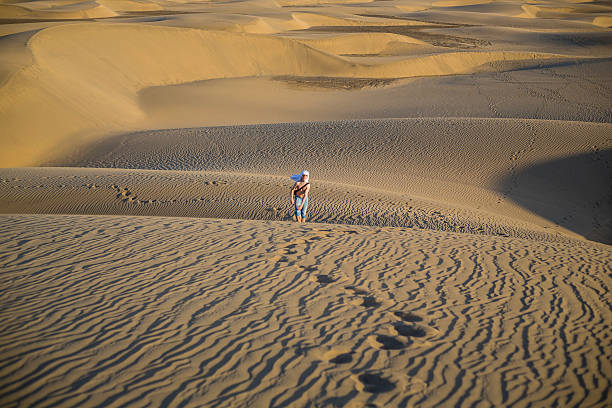human_footprint: (326, 347, 425, 402), (326, 347, 422, 399), (351, 368, 426, 407), (110, 184, 207, 204), (369, 321, 435, 349), (391, 311, 436, 341), (356, 372, 395, 392), (345, 286, 380, 307), (271, 240, 300, 262), (369, 334, 406, 349), (393, 322, 426, 337), (323, 349, 352, 363), (310, 273, 335, 285), (393, 311, 423, 321), (329, 353, 353, 364), (345, 286, 368, 295), (361, 296, 379, 307), (315, 274, 334, 284), (284, 243, 297, 254), (300, 265, 317, 271)
